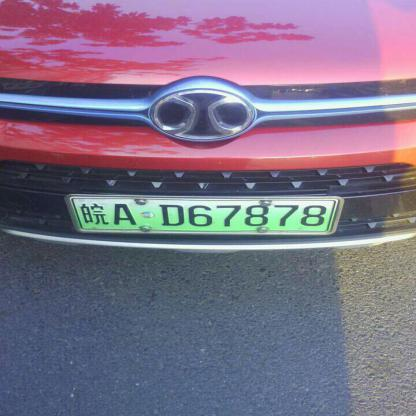lp: (69, 198, 339, 232)
